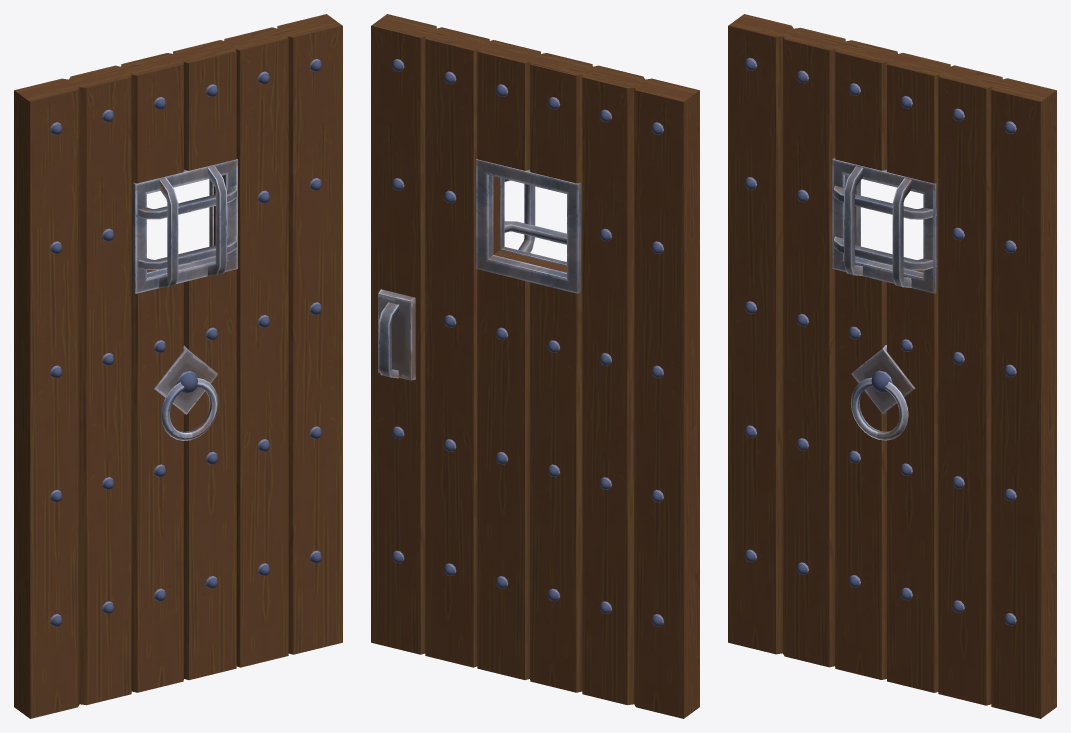
File: Door_2_Flat.glb
3 views of the same model, side by side, from view 1: azimuth 30°, elevation 25°; view 2: azimuth 150°, elevation 25°; view 3: azimuth 330°, elevation 25° (orthographic).
Visible parts, largest first — view 1: Door_2_Flat; view 2: Door_2_Flat; view 3: Door_2_Flat.
Boxes of the visible parts, x1,y1,x2,y2 form: Door_2_Flat: (14,14,342,718); Door_2_Flat: (371,14,699,718); Door_2_Flat: (728,14,1056,718).
Bounding box in the file's own units: 1.11 × 2.1 × 0.2608.
2 materials, 2 textured.
